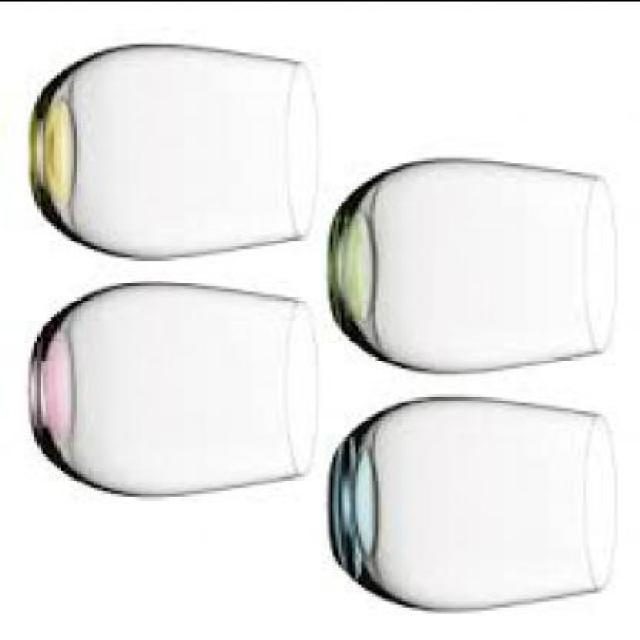glass: (331, 391, 617, 612), (29, 280, 318, 492), (334, 157, 620, 369), (32, 40, 314, 255)
